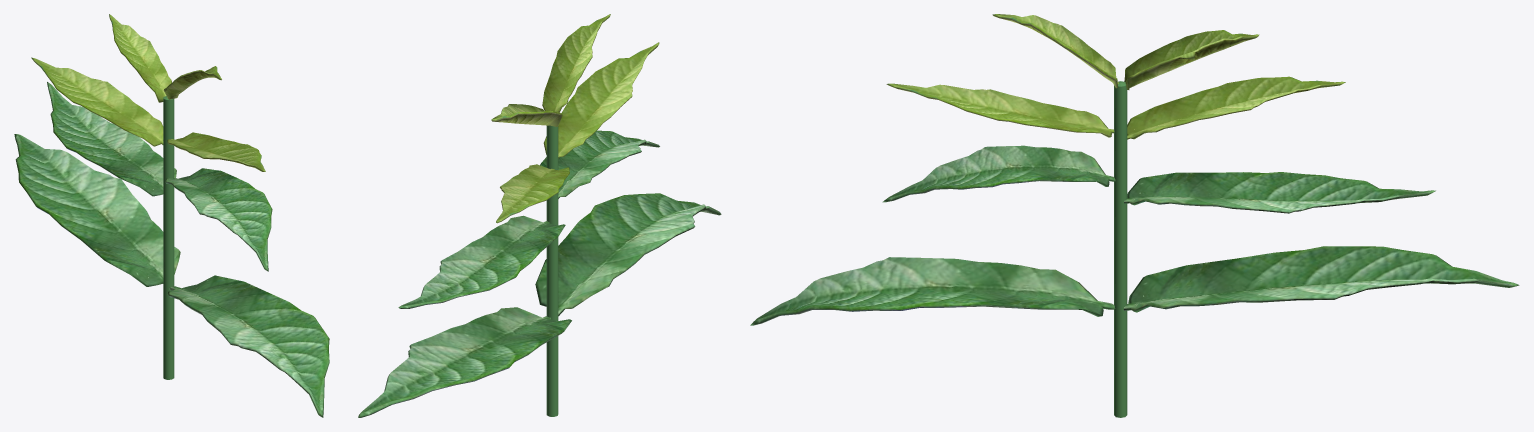
Rendered from liaodaqingye.FBX.
The picture shows the model from 3 angles, left to right: view 1: azimuth 30°, elevation 25°; view 2: azimuth 150°, elevation 25°; view 3: azimuth 270°, elevation 25°; orthographic projection. The views are drawn at different scales.
Parts seen in each view (by area): view 1: Line003, Line001, Line004, Line005, Line006, Cylinder001, Line008, Line002, Line007; view 2: Line001, Line003, Line004, Line002, Cylinder001, Line005, Line007, Line006, Line008; view 3: Line003, Line001, Line004, Line005, Line006, Cylinder001, Line002, Line008, Line007.
Part boxes in pixels (bbox=[...]): Line003: bbox=[14, 134, 180, 286]; Line001: bbox=[167, 275, 329, 417]; Line004: bbox=[47, 82, 176, 196]; Line005: bbox=[165, 168, 272, 271]; Line006: bbox=[31, 57, 163, 146]; Cylinder001: bbox=[163, 96, 174, 379]; Line008: bbox=[109, 14, 171, 102]; Line002: bbox=[167, 132, 265, 171]; Line007: bbox=[163, 66, 221, 99]; Line001: bbox=[535, 193, 721, 316]; Line003: bbox=[358, 307, 571, 417]; Line004: bbox=[398, 215, 565, 308]; Line002: bbox=[543, 42, 659, 158]; Cylinder001: bbox=[546, 125, 558, 416]; Line005: bbox=[540, 130, 659, 198]; Line007: bbox=[542, 14, 610, 112]; Line006: bbox=[496, 164, 569, 223]; Line008: bbox=[491, 104, 562, 126]; Line003: bbox=[1123, 246, 1519, 312]; Line001: bbox=[750, 257, 1115, 325]; Line004: bbox=[1124, 172, 1435, 213]; Line005: bbox=[882, 145, 1115, 202]; Line006: bbox=[1127, 76, 1345, 139]; Cylinder001: bbox=[1114, 81, 1127, 417]; Line002: bbox=[886, 83, 1114, 137]; Line008: bbox=[1124, 30, 1259, 89]; Line007: bbox=[992, 14, 1118, 88].
Size of the model in its own units: 9.72 by 29.39 by 51.16.
